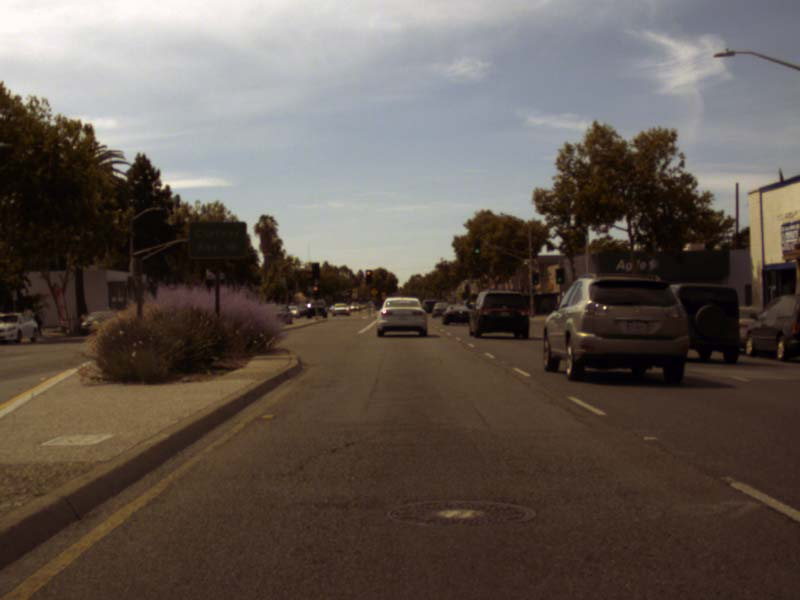Green: (555, 269, 563, 284), (474, 238, 480, 254), (532, 273, 538, 283)
Red: (312, 279, 318, 292), (365, 270, 371, 282)
